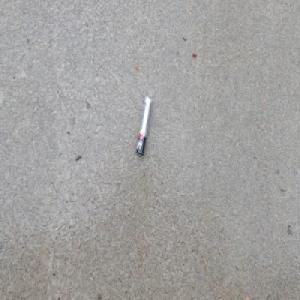Battery: (135, 95, 152, 157)
